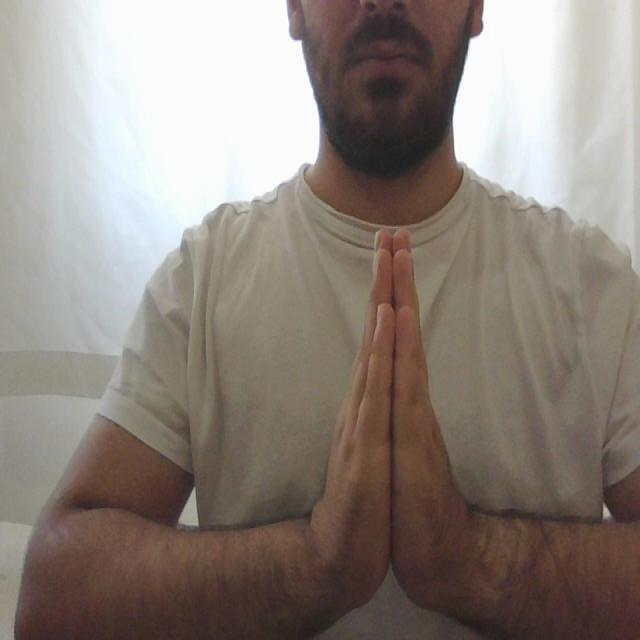Ozur-Dilemek: (306, 227, 479, 640)
